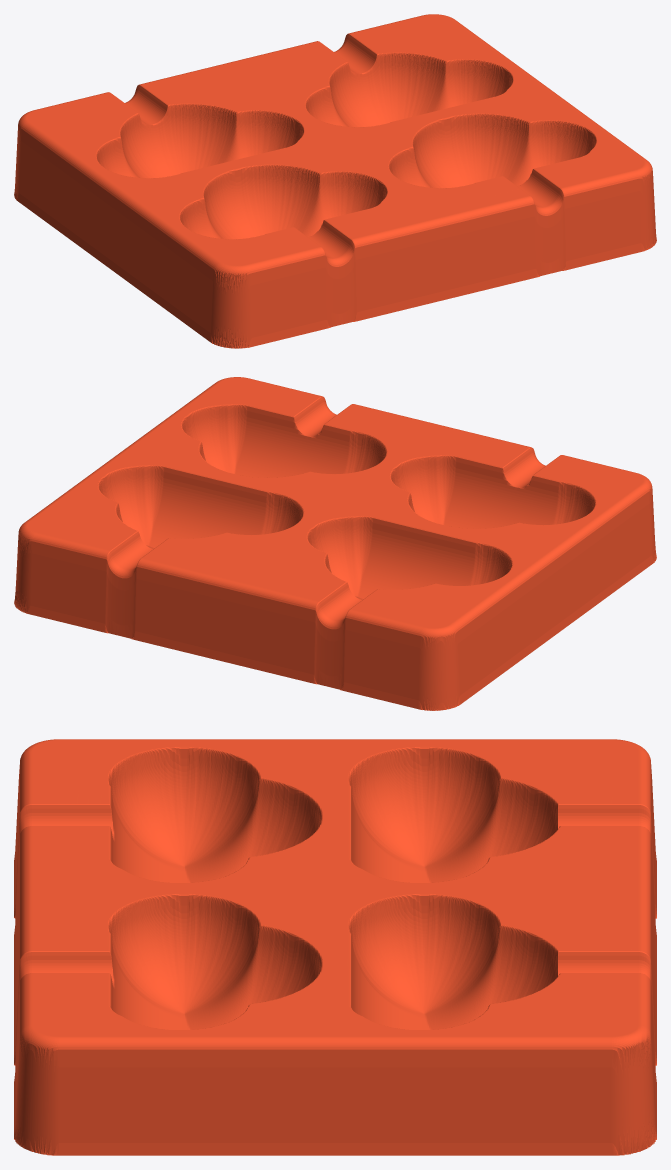
Rendered from mold.glb.
The picture shows the model from 3 angles, top to bottom: view 1: azimuth 30°, elevation 25°; view 2: azimuth 150°, elevation 25°; view 3: azimuth 270°, elevation 25°; orthographic projection. The views are drawn at different scales.
Visible parts, largest first — view 1: geometry_0; view 2: geometry_0; view 3: geometry_0.
Part boxes in pixels (bbox=[...]): geometry_0: bbox=[14, 14, 656, 348]; geometry_0: bbox=[14, 377, 656, 710]; geometry_0: bbox=[14, 739, 656, 1155].
Bounding box in the file's own units: 0.1468 × 0.0245 × 0.1281.
